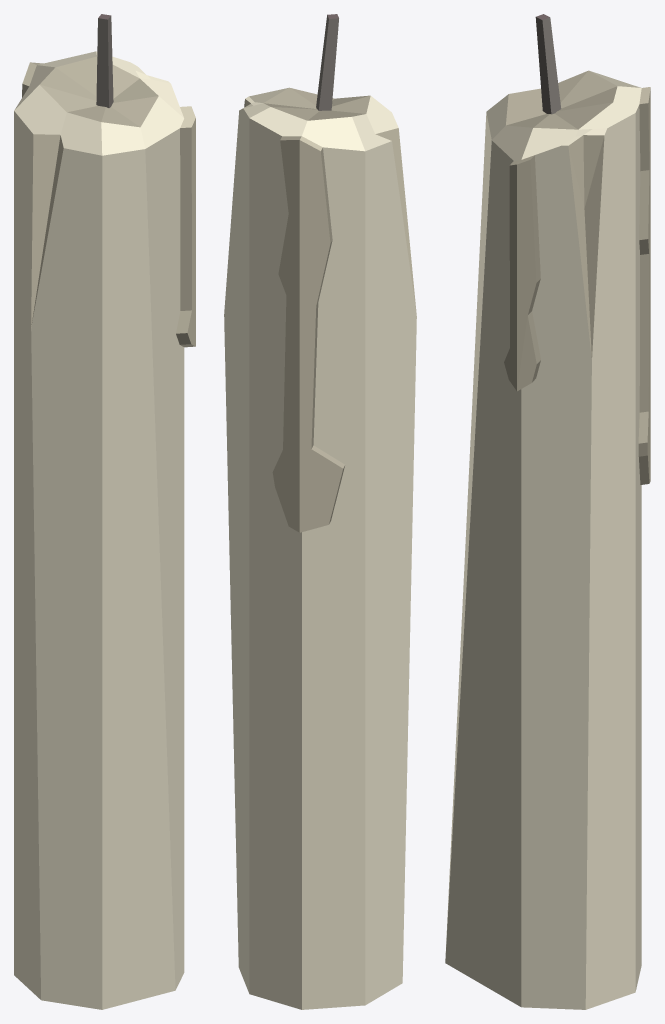
Rendered from Candle_03.glb.
The picture shows the model from 3 angles, left to right: view 1: azimuth 30°, elevation 25°; view 2: azimuth 150°, elevation 25°; view 3: azimuth 270°, elevation 25°; orthographic projection.
Visible parts, largest first — view 1: Candle_03; view 2: Candle_03; view 3: Candle_03.
Part boxes in pixels (x1,y1,x2,y2): Candle_03: (14,14,195,1009); Candle_03: (224,14,416,1009); Candle_03: (445,14,650,1009).
Size of what is drawn, in the model's own units: 0.0709 by 0.3966 by 0.0772.
Materials: 1 (1 with a texture image).
